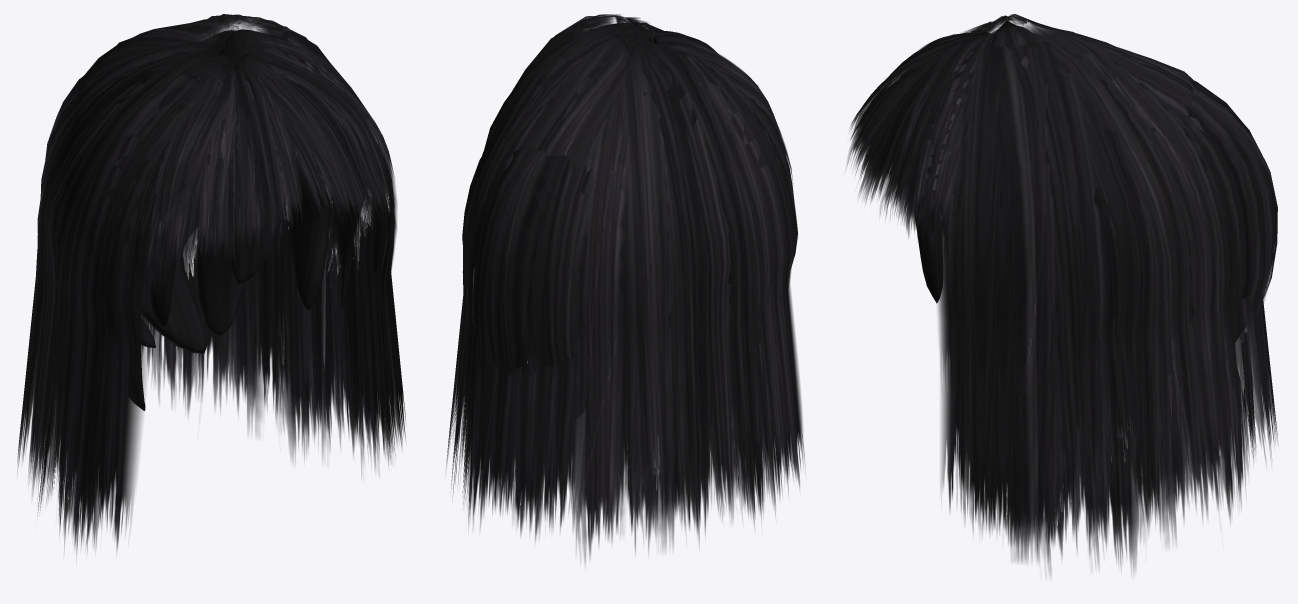
The model's file is q_witch_long_black.glb.
3 views of the same model, side by side, from view 1: azimuth 30°, elevation 25°; view 2: azimuth 150°, elevation 25°; view 3: azimuth 270°, elevation 25° (orthographic). The views are drawn at different scales.
Parts seen in each view (by area): view 1: locks, shell; view 2: locks, shell; view 3: locks, shell.
Part boxes in pixels (bbox=[...]): locks: bbox=[17, 14, 405, 555]; shell: bbox=[118, 29, 388, 410]; locks: bbox=[446, 14, 805, 562]; shell: bbox=[484, 22, 676, 368]; locks: bbox=[846, 14, 1278, 574]; shell: bbox=[901, 21, 1265, 341].
Bounding box in the file's own units: 24.52 × 36.05 × 28.23.
2 materials, 2 textured.
